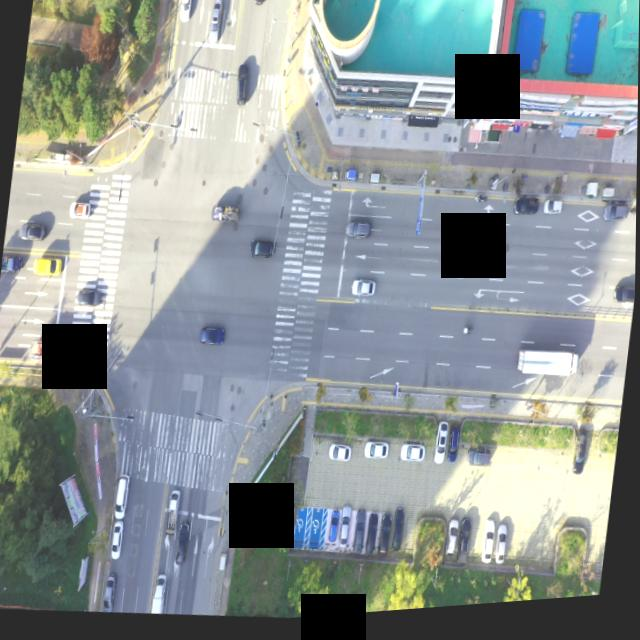car: (389, 509, 409, 555), (455, 524, 474, 572), (31, 253, 66, 278), (376, 516, 394, 562), (364, 515, 381, 563), (351, 512, 368, 560), (337, 508, 353, 557), (482, 526, 498, 572), (248, 240, 276, 265), (466, 451, 492, 477), (198, 327, 225, 351), (327, 445, 354, 469), (234, 66, 249, 109), (435, 428, 450, 471), (176, 525, 191, 568), (152, 574, 167, 616), (78, 288, 106, 310), (207, 2, 221, 45), (102, 574, 117, 613), (116, 479, 130, 520), (602, 210, 628, 232), (398, 450, 424, 472), (446, 431, 461, 469), (110, 521, 124, 561), (68, 199, 92, 222), (21, 221, 47, 242), (514, 203, 540, 224), (496, 529, 509, 570), (448, 526, 462, 564), (350, 283, 374, 305), (364, 445, 389, 466), (346, 225, 372, 245), (614, 293, 636, 315), (357, 282, 380, 303), (328, 516, 340, 547), (542, 205, 561, 223), (179, 0, 192, 24), (252, 0, 263, 9)
medium_truck: (515, 352, 581, 392)
small_truck: (25, 331, 76, 375), (572, 433, 591, 483), (209, 206, 241, 231), (166, 491, 182, 539), (0, 252, 22, 273)
